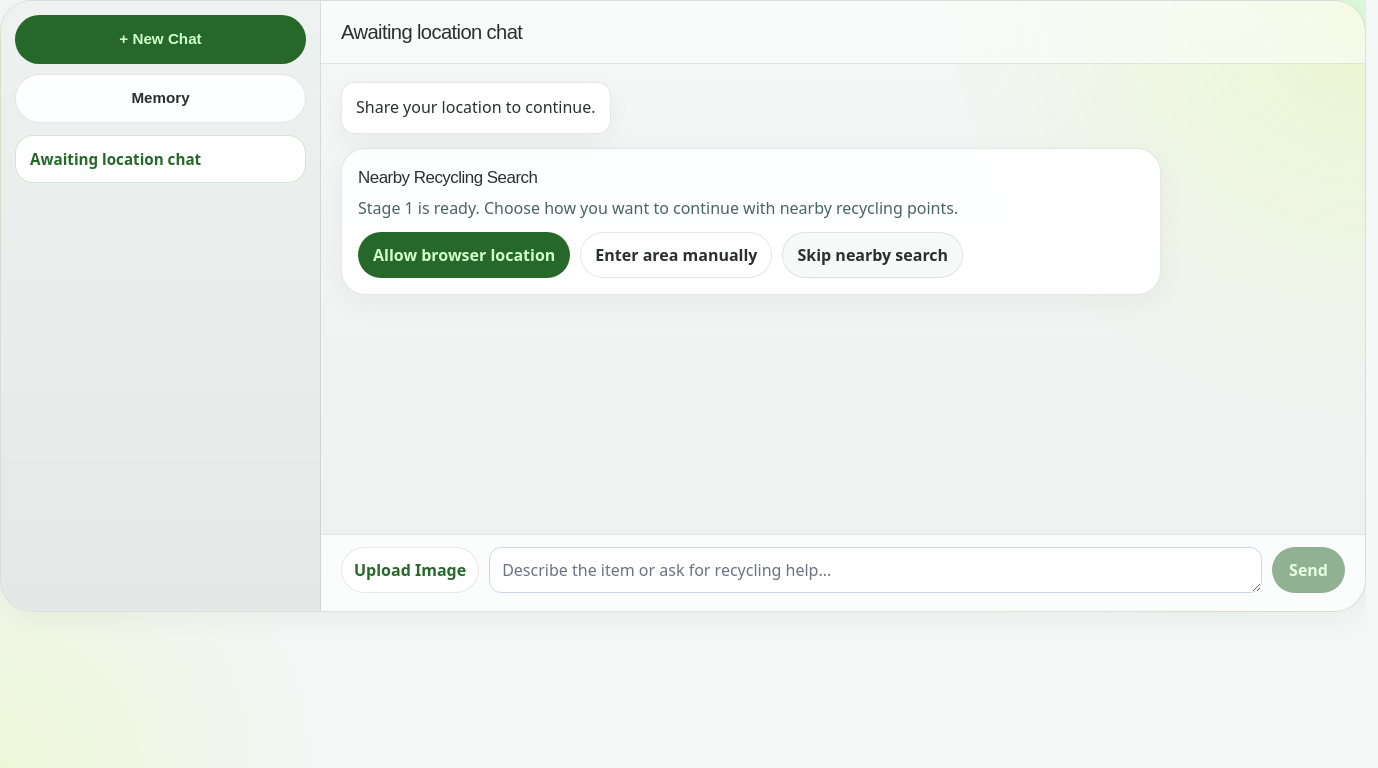
Test: AiChatView › keeps the pending recycle case audit card available when resuming nearby search from awaiting location
The image size is (1378, 768).
Click the button with class "chat-card__button" showing "Enter area manually".
click(676, 255)  # box x1=580 y1=232 x2=772 y2=278
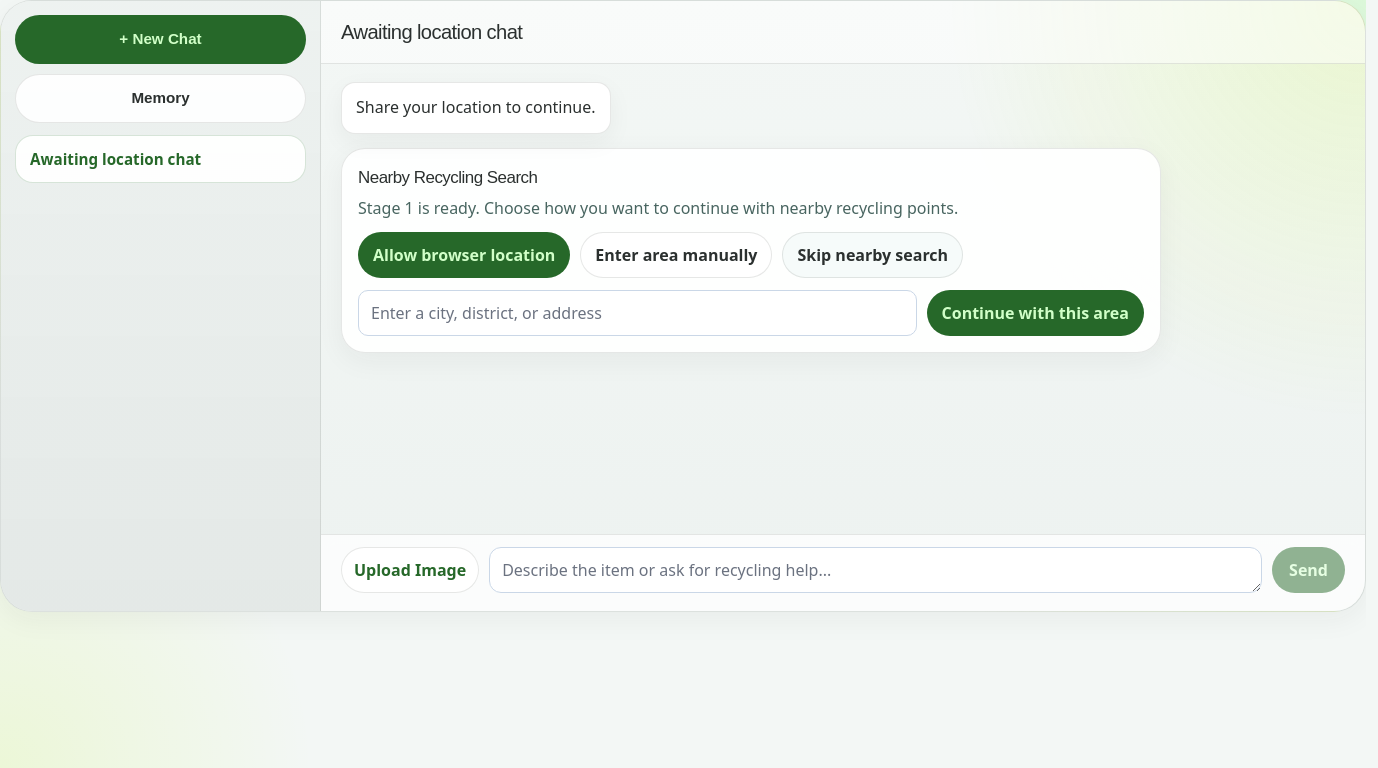
Type "Chengdu" into the field with class "chat-card__input".
click(637, 313); type("Chengdu")  # box x1=358 y1=290 x2=916 y2=336
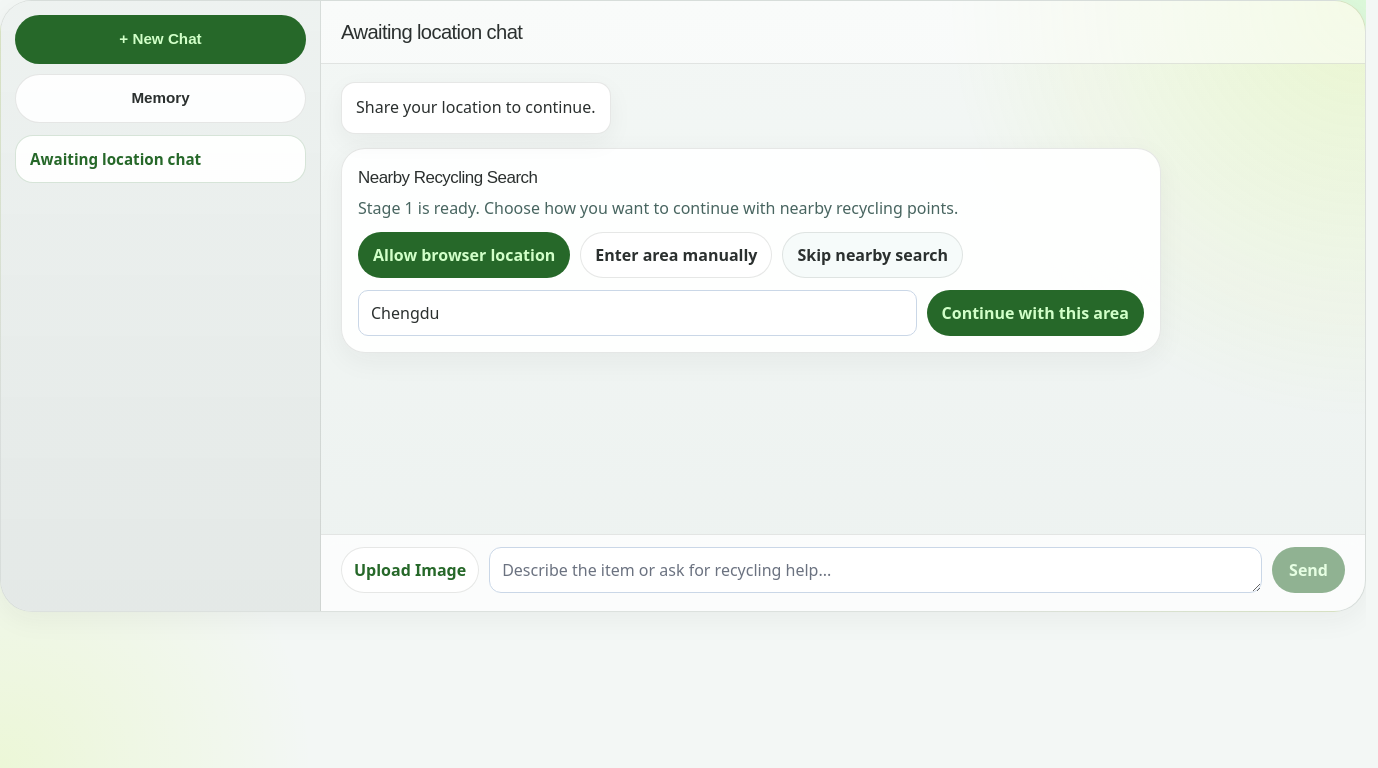
Click the button with class "chat-card__button" showing "Continue with this area".
click(1035, 313)  # box x1=926 y1=290 x2=1144 y2=336
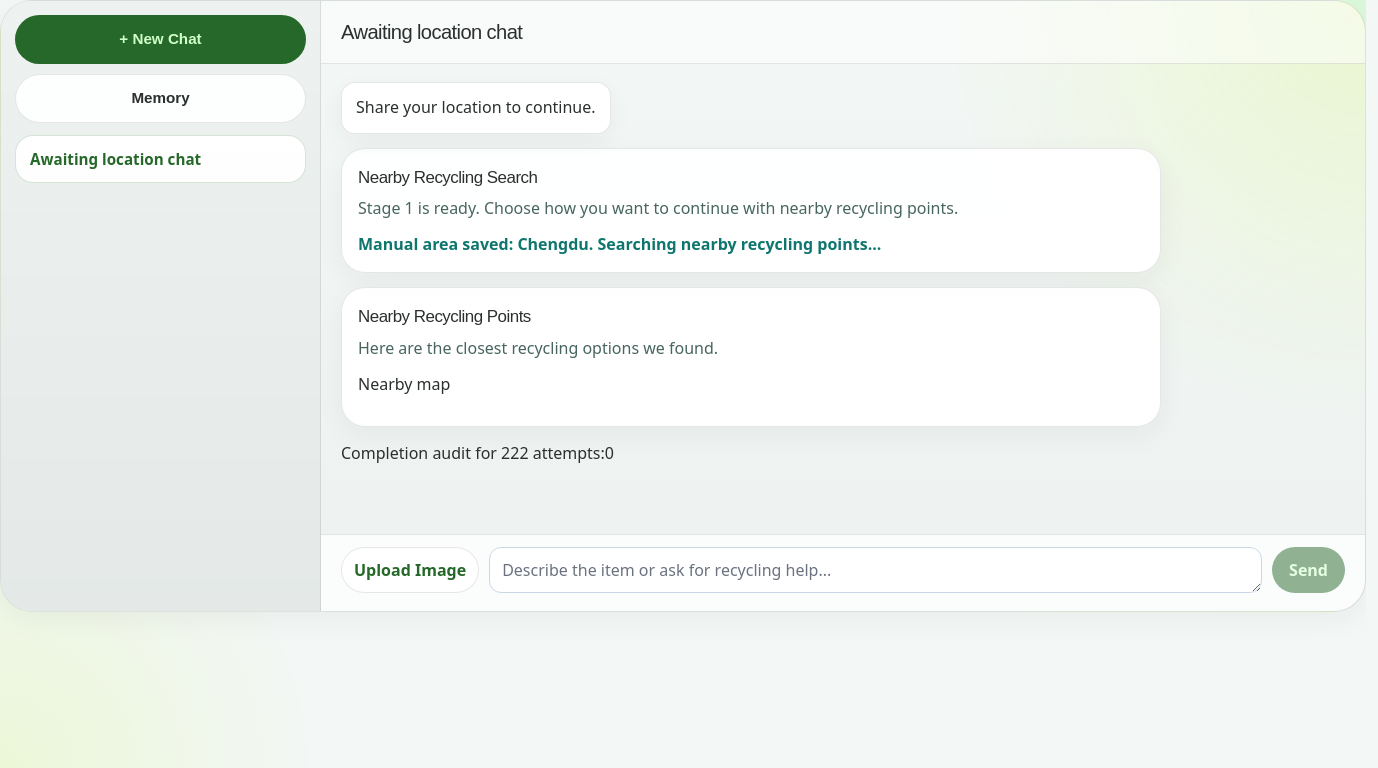
Check: the text "Completion audit for 222" is shown, box x1=341 y1=442 x2=614 y2=464
